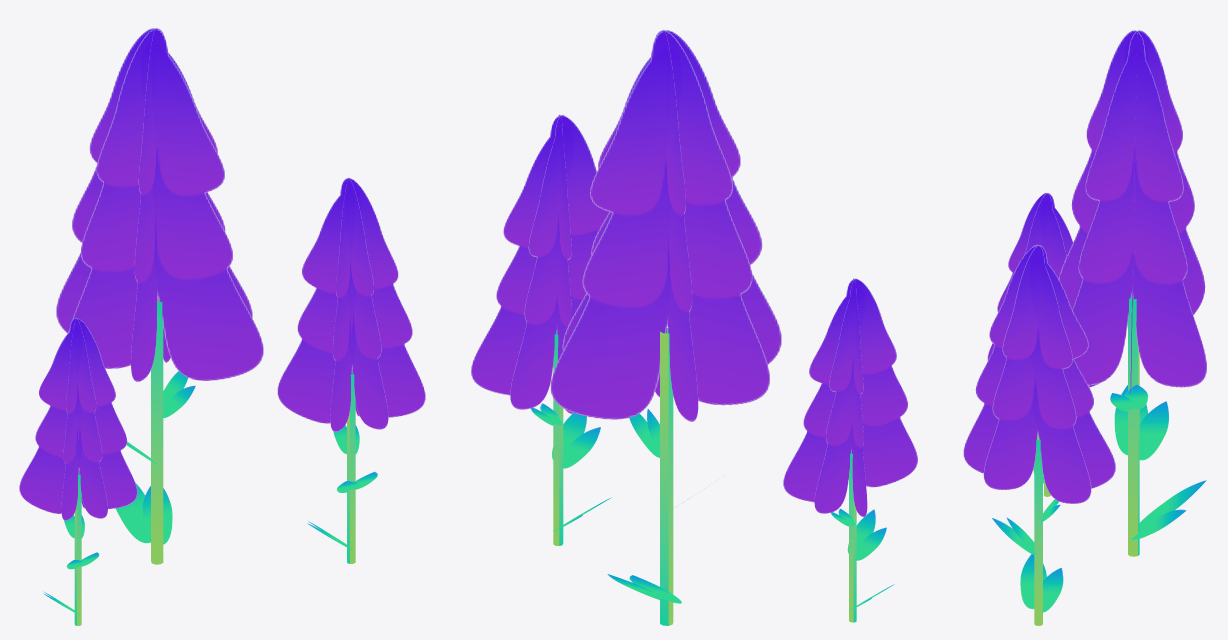
Rendered from Flowers_n02_05.fbx.
The picture shows the model from 3 angles, left to right: view 1: azimuth 30°, elevation 25°; view 2: azimuth 150°, elevation 25°; view 3: azimuth 270°, elevation 25°; orthographic projection. The views are drawn at different scales.
Visible parts, largest first — view 1: polySurface159; view 2: polySurface159; view 3: polySurface159.
Part boxes in pixels (box(x1,y1,x2,y2)): polySurface159: box(19, 28, 425, 625); polySurface159: box(471, 30, 917, 625); polySurface159: box(963, 30, 1206, 625).
Size of the model in its own units: 28.84 by 40.75 by 18.
Materials: 1 (1 with a texture image).
